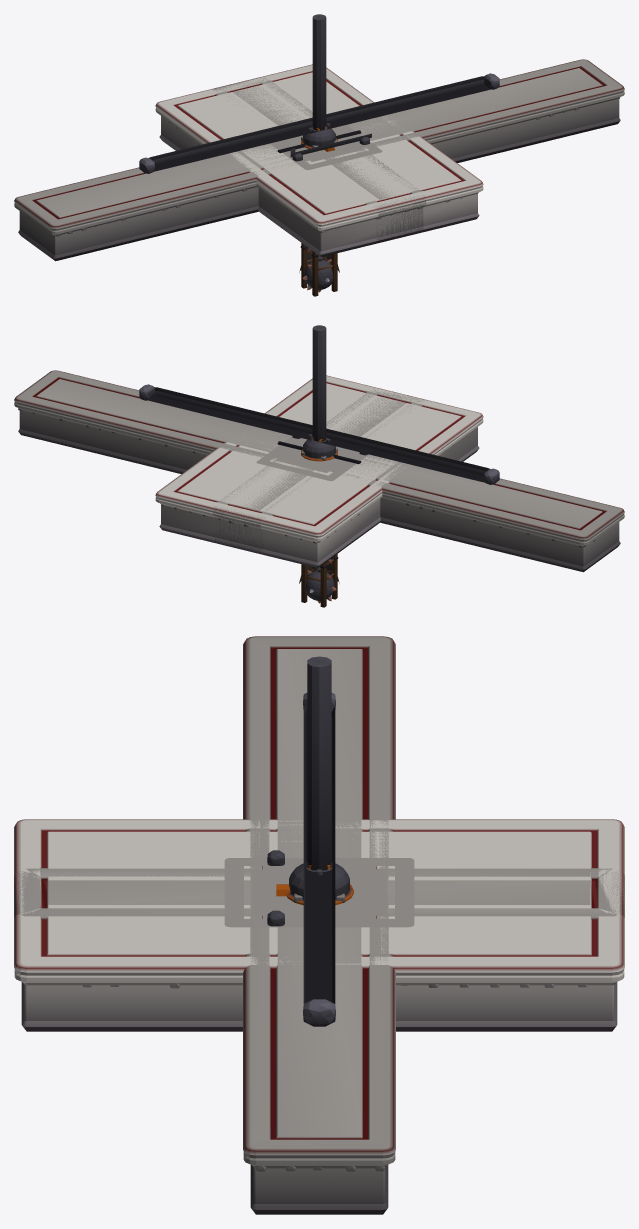
The model's file is fortress-6-DwyQvntt.glb.
3 views of the same model, one above another, from view 1: azimuth 30°, elevation 25°; view 2: azimuth 150°, elevation 25°; view 3: azimuth 270°, elevation 25° (orthographic). The views are drawn at different scales.
Visible parts, largest first — view 1: block_48x2x6#0, block_14x2x24#0, mount_14.4#0, block_5x2x24#0, press_4x6x5#0, block_7x2x8#0, truss_11.4#0, block_6x2x5#0, blade_3x12x1#0, mount_10_wheel#0, barHub_5.4x1.2#0; view 2: block_48x2x6#0, block_14x2x24#0, mount_14.4#0, block_5x2x24#0, press_4x6x5#0, block_7x2x8#0, truss_11.4#0, block_6x2x5#0, blade_3x12x1#0, barHub_5.4x1.2#0; view 3: block_14x2x24#0, block_48x2x6#0, block_5x2x24#0, mount_14.4#0, block_7x2x8#0, press_4x6x5#0, block_6x2x5#0, barHub_5.4x1.2#0.
Part boxes in pixels (box(x1,y1,x2,y2)): block_48x2x6#0: box(14, 59, 624, 261); block_14x2x24#0: box(155, 64, 483, 256); mount_14.4#0: box(139, 73, 499, 173); block_5x2x24#0: box(213, 77, 426, 243); press_4x6x5#0: box(312, 14, 326, 130); block_7x2x8#0: box(270, 125, 382, 170); truss_11.4#0: box(300, 136, 337, 296); block_6x2x5#0: box(276, 126, 365, 160); blade_3x12x1#0: box(302, 256, 333, 292); mount_10_wheel#0: box(290, 133, 371, 161); barHub_5.4x1.2#0: box(301, 126, 337, 150); block_48x2x6#0: box(14, 370, 624, 572); block_14x2x24#0: box(155, 375, 483, 567); mount_14.4#0: box(139, 384, 499, 484); block_5x2x24#0: box(212, 388, 424, 551); press_4x6x5#0: box(312, 325, 326, 441); block_7x2x8#0: box(256, 436, 368, 481); truss_11.4#0: box(301, 447, 338, 607); block_6x2x5#0: box(273, 438, 360, 471); blade_3x12x1#0: box(305, 567, 336, 603); barHub_5.4x1.2#0: box(301, 437, 337, 461); block_14x2x24#0: box(14, 819, 624, 1031); block_48x2x6#0: box(243, 636, 395, 1214); block_5x2x24#0: box(14, 867, 624, 920); mount_14.4#0: box(303, 693, 335, 1026); block_7x2x8#0: box(224, 858, 414, 927); press_4x6x5#0: box(307, 656, 331, 870); block_6x2x5#0: box(263, 863, 375, 921); barHub_5.4x1.2#0: box(286, 863, 353, 902).
Size of the model in its own units: 48 by 21.98 by 24.
